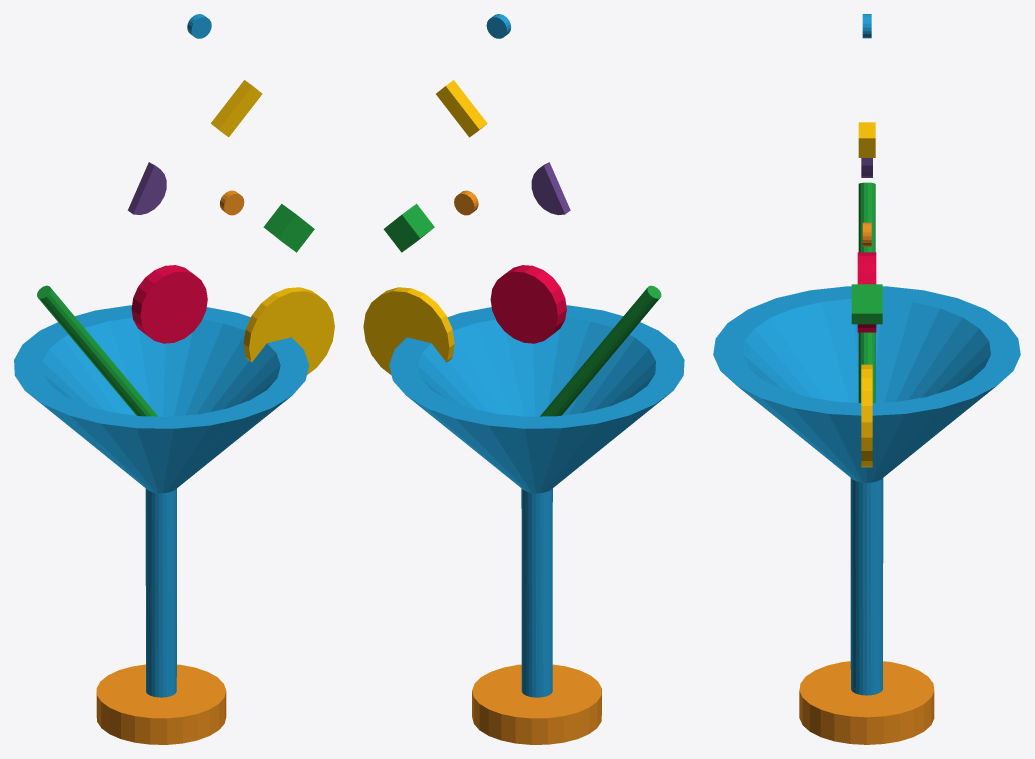
The model's file is Festa3D-blender.glb.
3 renders of one model, left to right at view 1: azimuth 30°, elevation 25°; view 2: azimuth 150°, elevation 25°; view 3: azimuth 270°, elevation 25°, orthographic. The views are drawn at different scales.
Bounding box in the file's own units: 2.07 × 4.6 × 1.78.
